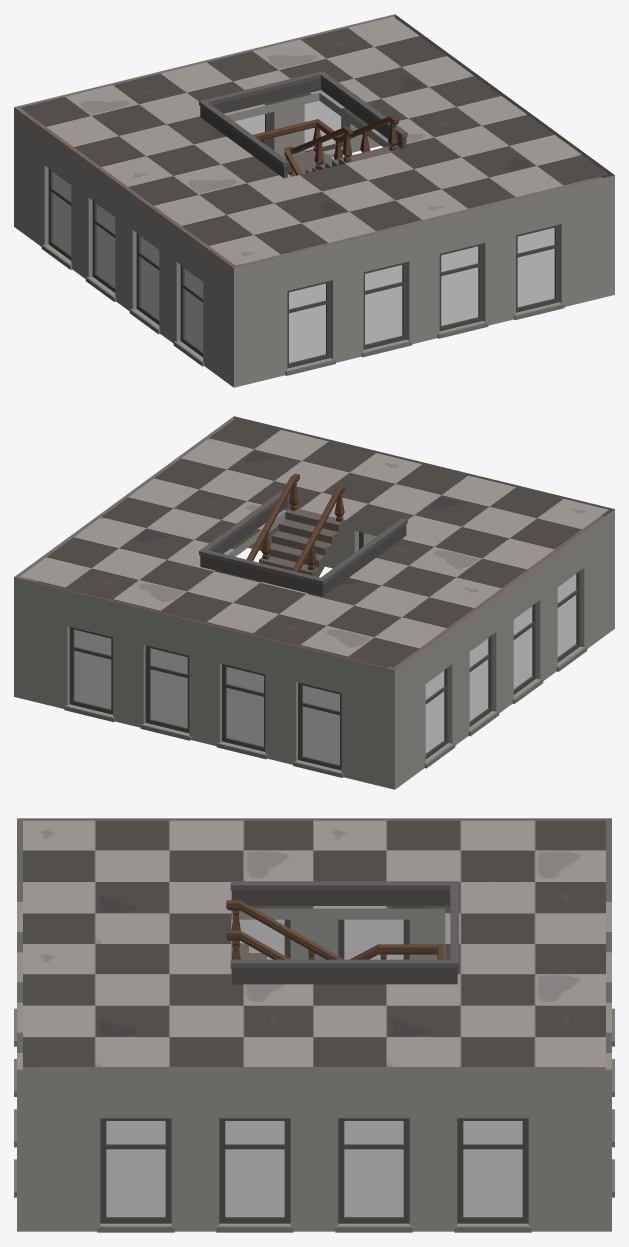
Rendered from SM_Bldg_City_High-Rise_04_Mid_01.fbx.
The picture shows the model from 3 angles, top to bottom: view 1: azimuth 30°, elevation 25°; view 2: azimuth 150°, elevation 25°; view 3: azimuth 270°, elevation 25°; orthographic projection. The views are drawn at different scales.
Parts seen in each view (by area): view 1: SM_Bldg_City_High-Rise_04_Mid_01, SM_Bldg_City_High-Rise_04_Mid_01_Glass; view 2: SM_Bldg_City_High-Rise_04_Mid_01, SM_Bldg_City_High-Rise_04_Mid_01_Glass; view 3: SM_Bldg_City_High-Rise_04_Mid_01, SM_Bldg_City_High-Rise_04_Mid_01_Glass.
Boxes of the visible parts, bbox=[...] form: SM_Bldg_City_High-Rise_04_Mid_01: bbox=[14, 14, 614, 387]; SM_Bldg_City_High-Rise_04_Mid_01_Glass: bbox=[52, 100, 554, 362]; SM_Bldg_City_High-Rise_04_Mid_01: bbox=[14, 416, 614, 789]; SM_Bldg_City_High-Rise_04_Mid_01_Glass: bbox=[74, 533, 576, 764]; SM_Bldg_City_High-Rise_04_Mid_01: bbox=[14, 818, 614, 1232]; SM_Bldg_City_High-Rise_04_Mid_01_Glass: bbox=[106, 919, 522, 1216].
Size of the model in its own units: 1010 by 384 by 1010.
